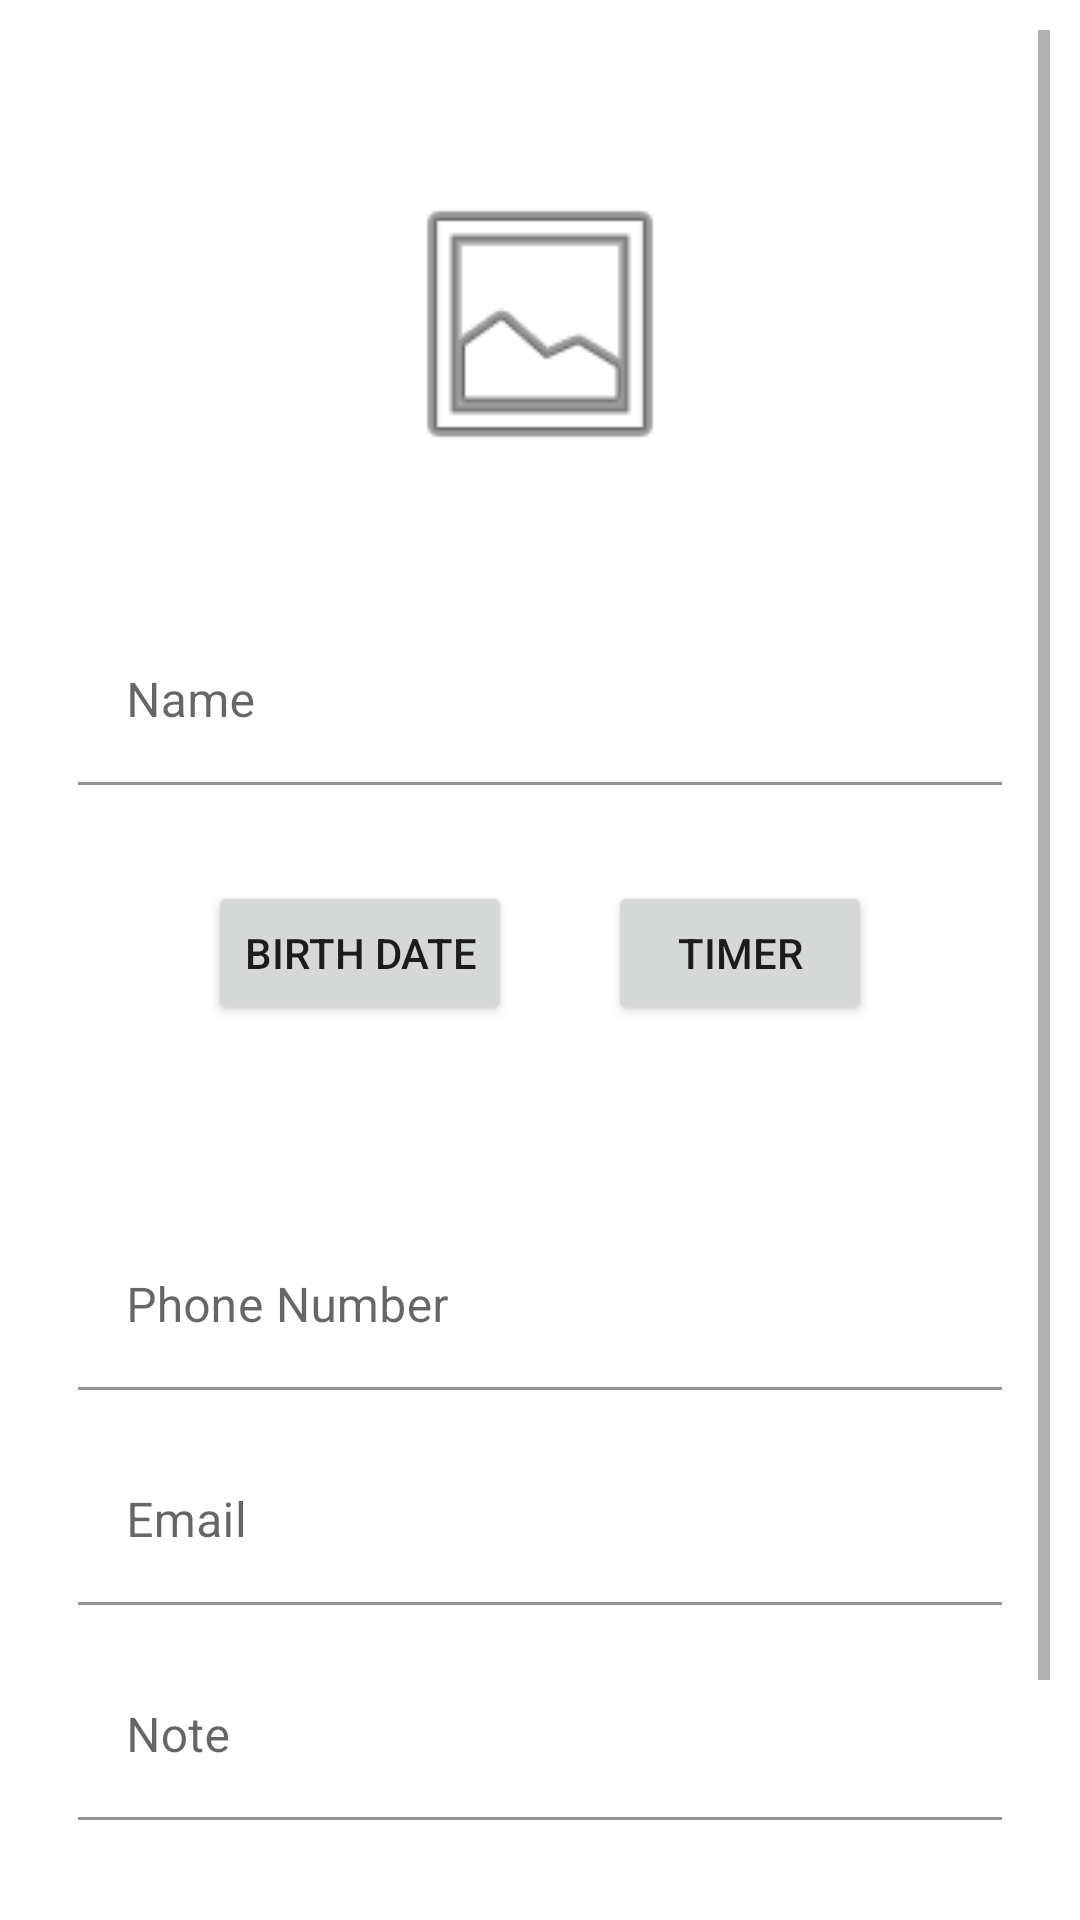

Named icons in this screenshot (1080px×1920px) and their bounding boxes, (x1, y1, x2, y2):
gallery: (427, 211, 653, 437)
